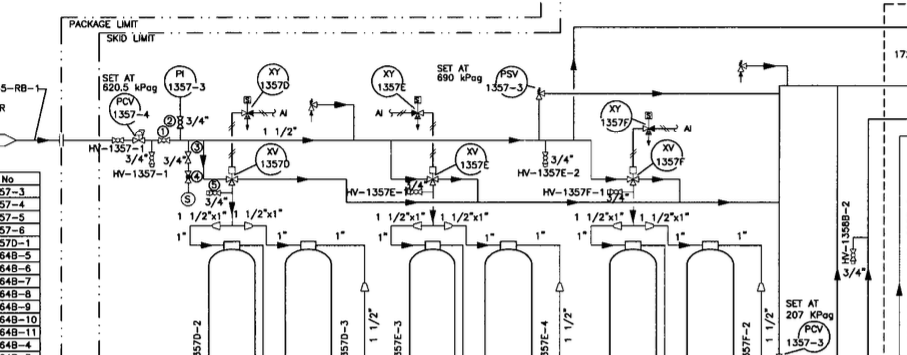Instrument-offset: (485, 59, 529, 104), (779, 319, 833, 355), (161, 62, 209, 102), (249, 141, 300, 176), (105, 93, 156, 128), (446, 142, 494, 179), (369, 61, 412, 102), (646, 136, 691, 174), (248, 62, 297, 95), (592, 98, 634, 132)
